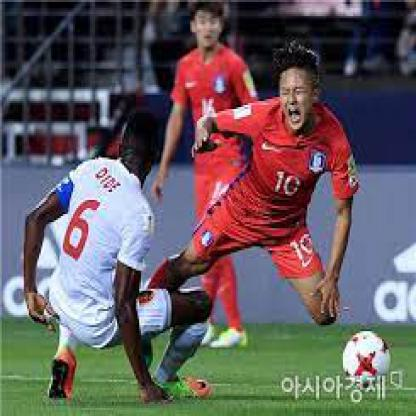Fall_Down: (139, 44, 360, 374)
